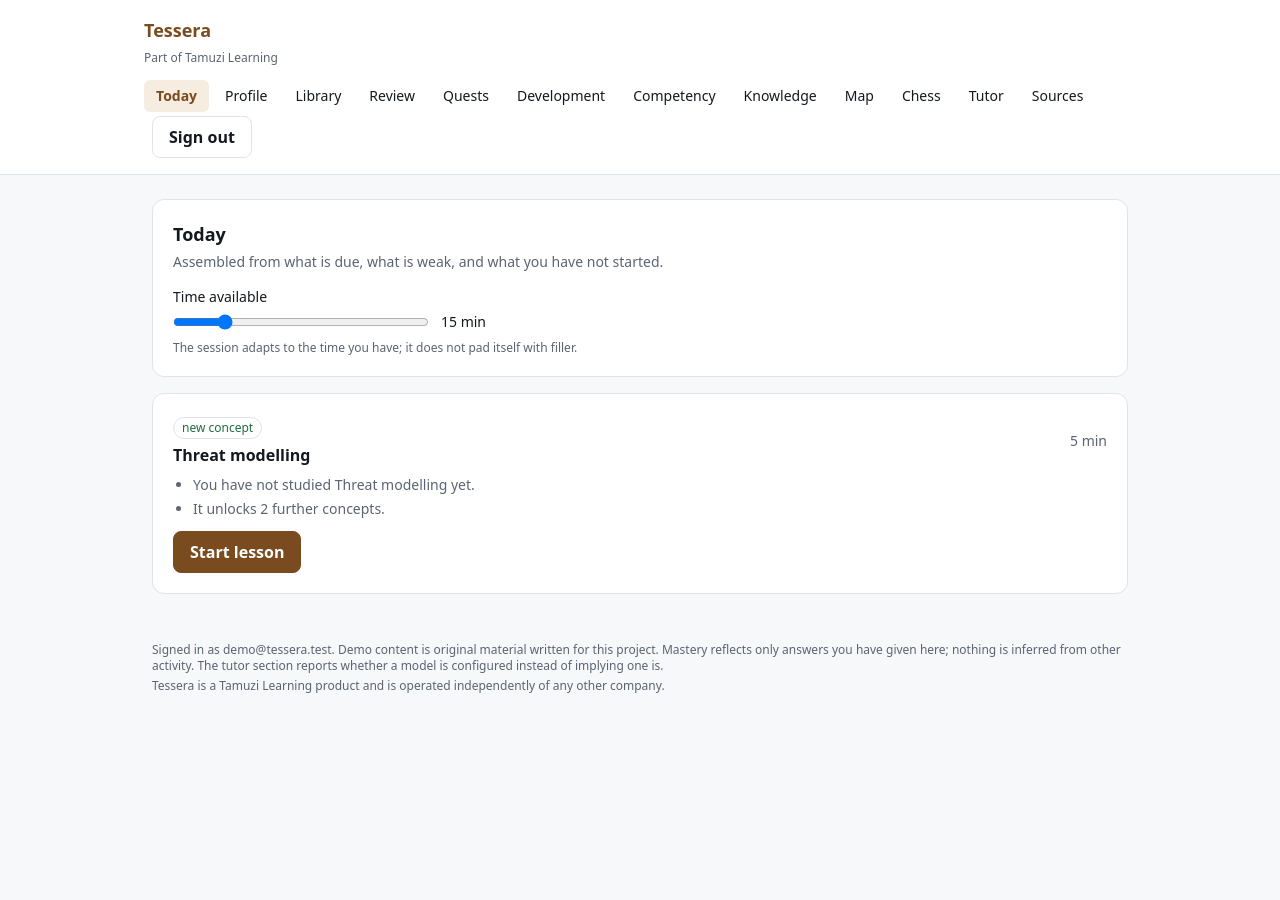
Test: signed in › renames the page and moves focus to the main region when the section changes
Expected: the heading "Today" is shown, top-left (173, 222), bottom-right (226, 246)
Click the button "Knowledge" at coordinates (780, 96), box top-left (732, 80), bottom-right (829, 112)
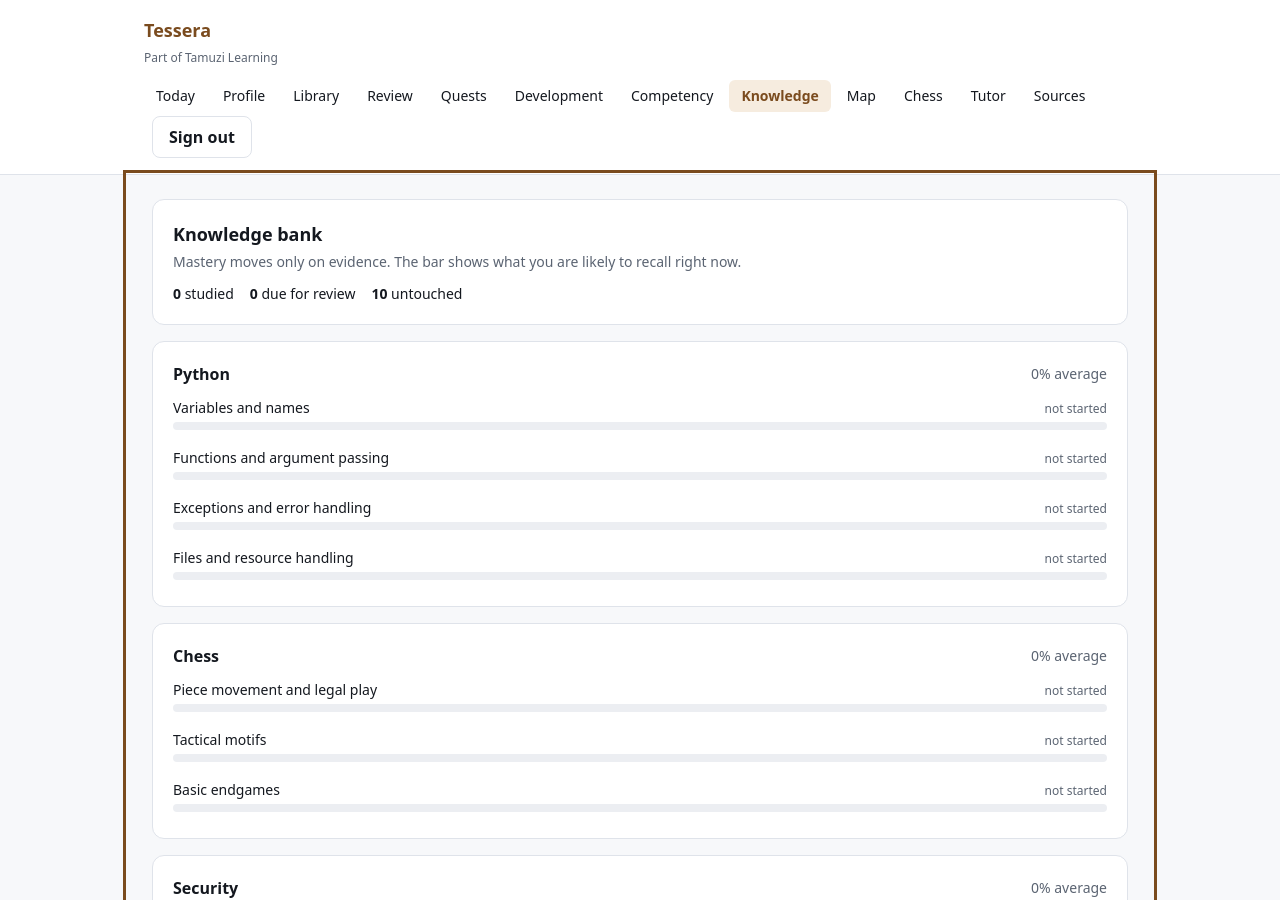
Result: the heading "Knowledge bank" is shown at top-left (173, 222), bottom-right (322, 246)
